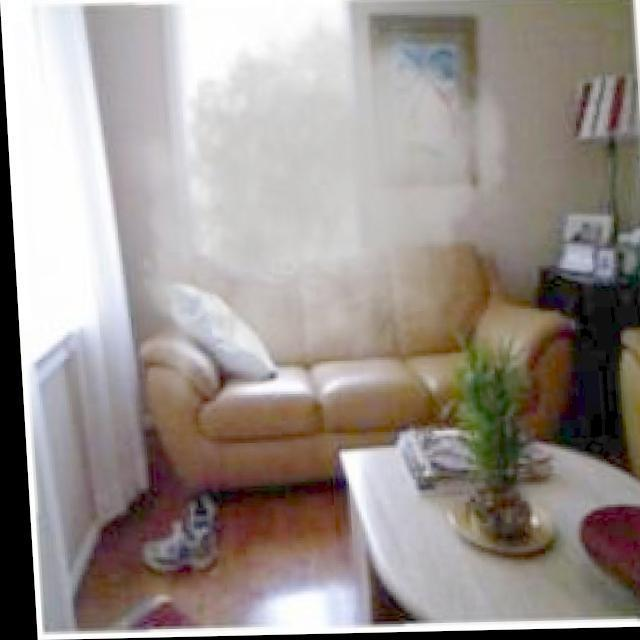Smoke: (114, 0, 524, 371)
